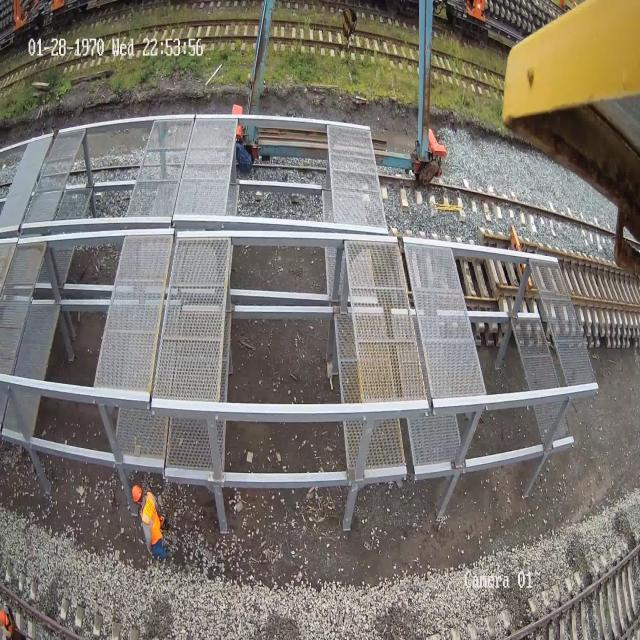Helmet: (131, 484, 142, 502)
Person: (131, 484, 168, 560)
